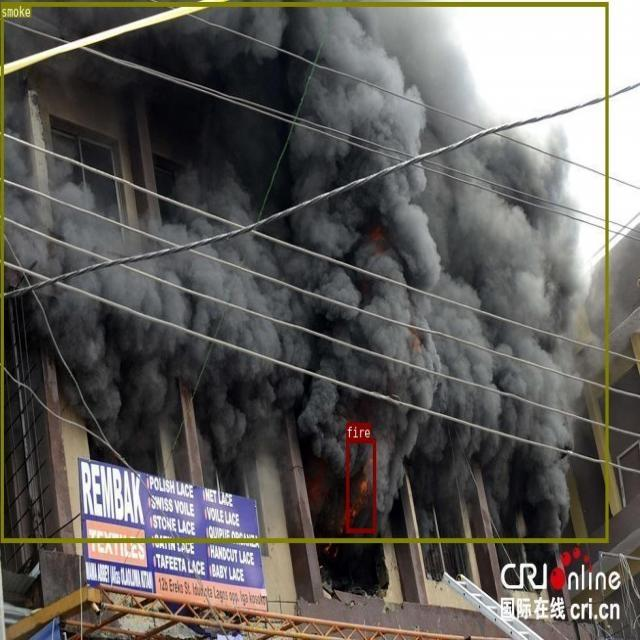fire: (346, 438, 375, 532)
smoke: (1, 1, 608, 542)
